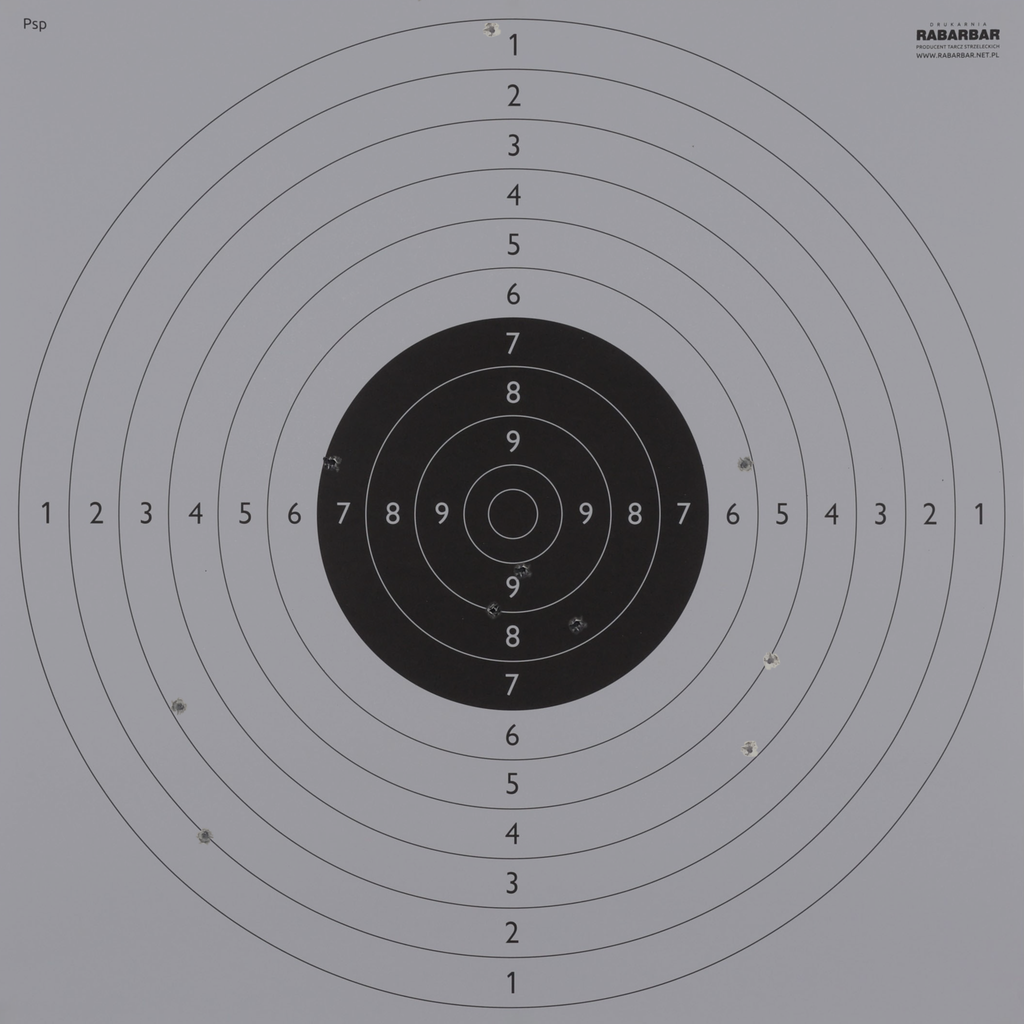0 punktow: (939, 0, 958, 12)
1 punkt: (482, 21, 501, 39)
10 punktow: (513, 561, 532, 579)
2 punkty: (196, 826, 214, 845)
3 punkty: (170, 697, 189, 716)
4 punkty: (740, 740, 759, 759)
5 punktow: (761, 651, 780, 670)
6 punktow: (735, 455, 754, 474)
7 punktow: (322, 453, 341, 472)
8 punktow: (568, 615, 586, 633)
9 punktow: (484, 601, 502, 620)
